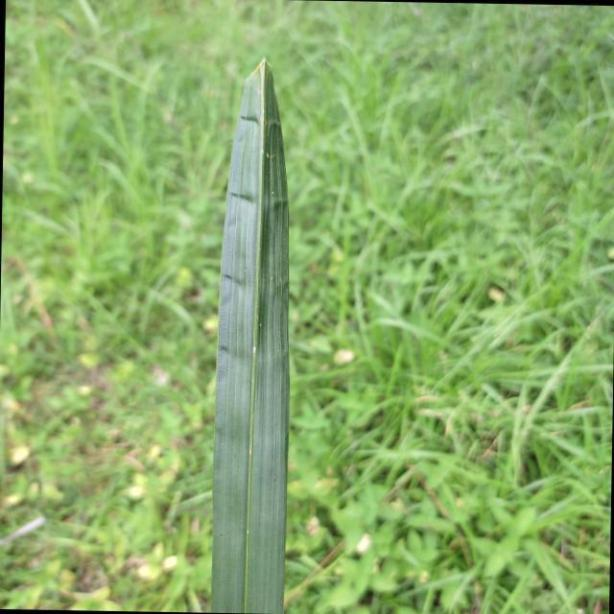Boron: (207, 51, 291, 614)
